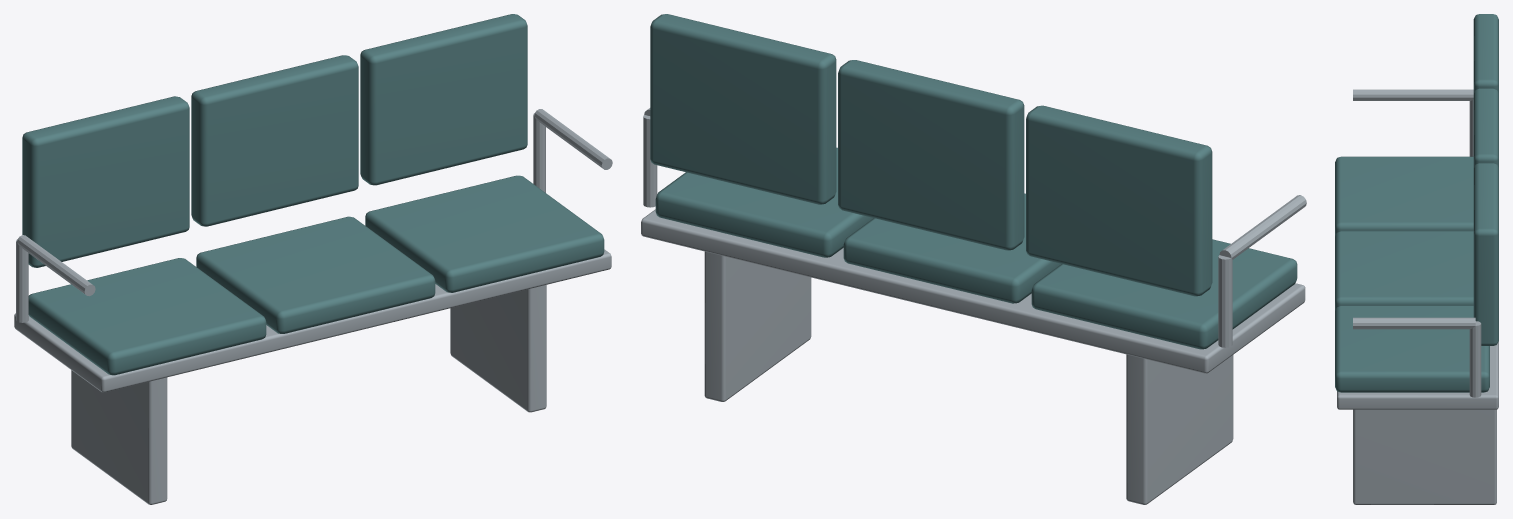
The model's file is waiting_bench.fbx.
3 renders of one model, left to right at view 1: azimuth 30°, elevation 25°; view 2: azimuth 150°, elevation 25°; view 3: azimuth 270°, elevation 25°, orthographic. The views are drawn at different scales.
Parts seen in each view (by area): view 1: EQ_waiting_bench_M_Upholstery, EQ_waiting_bench_M_SteelBrushed; view 2: EQ_waiting_bench_M_Upholstery, EQ_waiting_bench_M_SteelBrushed; view 3: EQ_waiting_bench_M_Upholstery, EQ_waiting_bench_M_SteelBrushed.
Part boxes in pixels (left/top/right/bottom): EQ_waiting_bench_M_Upholstery: left=22, top=14, right=604, bottom=375; EQ_waiting_bench_M_SteelBrushed: left=14, top=109, right=612, bottom=504; EQ_waiting_bench_M_Upholstery: left=650, top=14, right=1297, bottom=349; EQ_waiting_bench_M_SteelBrushed: left=641, top=108, right=1306, bottom=504; EQ_waiting_bench_M_Upholstery: left=1335, top=14, right=1498, bottom=392; EQ_waiting_bench_M_SteelBrushed: left=1337, top=89, right=1498, bottom=504.
Bounding box in the file's own units: 1.53 × 0.91 × 0.455.
